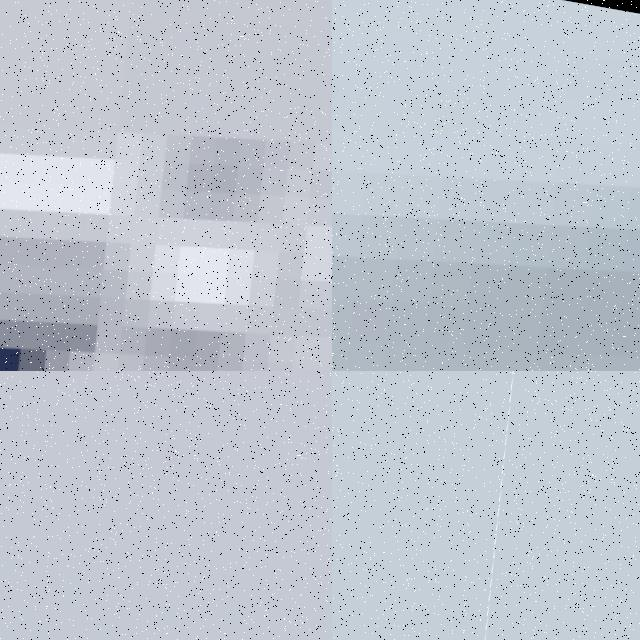drone: (0, 0, 332, 371), (332, 0, 640, 371), (426, 371, 640, 640)
